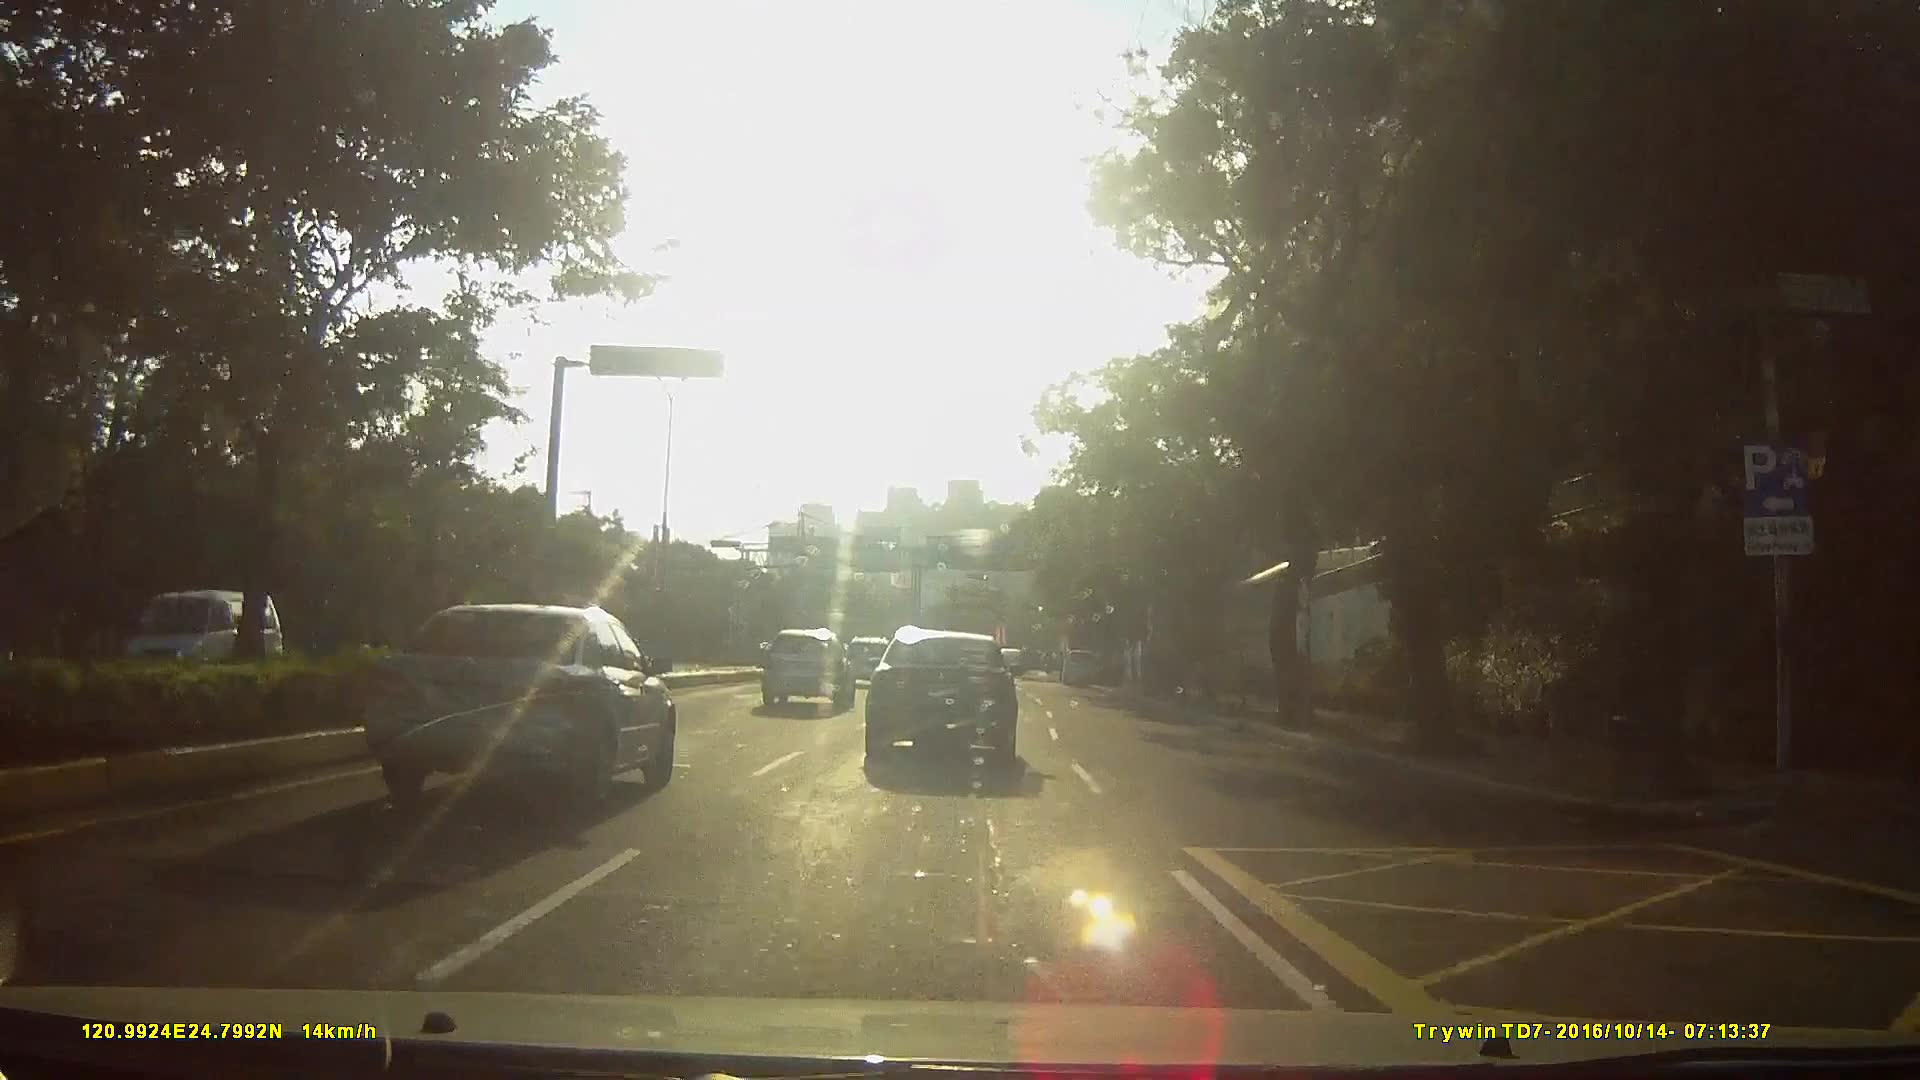vehicle: (368, 595, 676, 811), (866, 618, 1044, 766), (115, 588, 287, 707), (756, 624, 855, 712), (840, 628, 895, 684), (1062, 644, 1105, 684)
